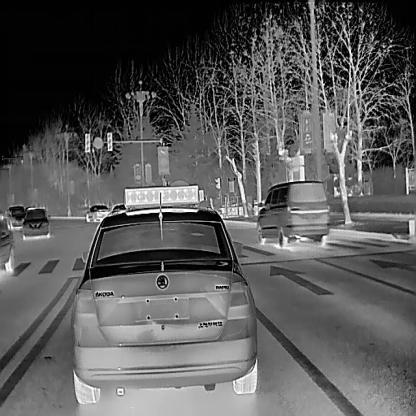car: (70, 183, 257, 405), (257, 180, 330, 246), (19, 206, 50, 239), (0, 209, 14, 271), (5, 204, 24, 229), (84, 202, 110, 220)
